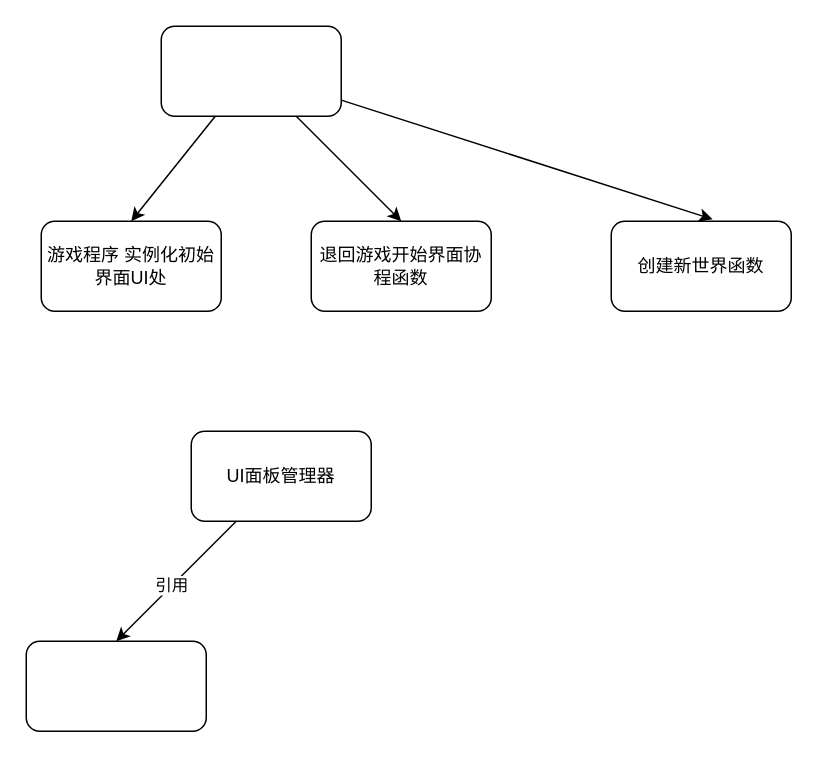
The diagram is 818 pixels wide and 758 high, and some of its shapes have lost their labels. The shapes that lost their labels are listed below. From the top down, each one's box as (x1, y1, x2, y2) in pixels, then its label:
(160, 25, 341, 116): 游戏管理器-管理游戏整体的生命周期
(25, 640, 206, 731): BasePanel-游戏UI面板管理的最小单位,通常是UI元素的父对象
